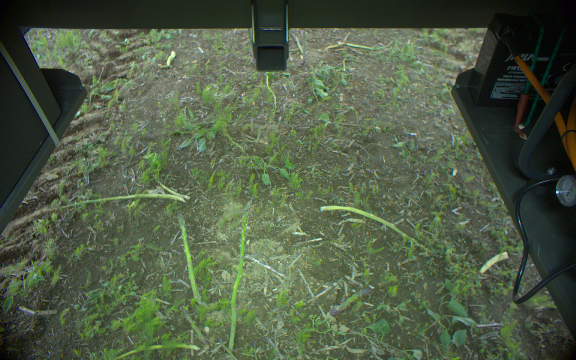aspa: (226, 196, 249, 360), (170, 213, 202, 303), (331, 285, 376, 315)
